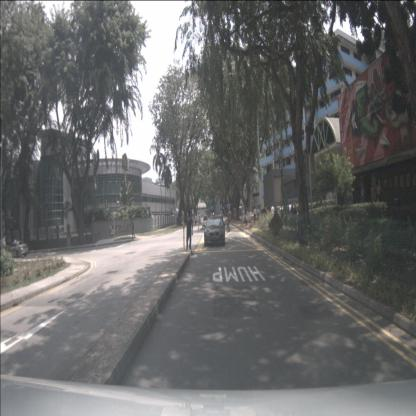human-pedestrian-adult: (186, 210, 194, 250), (290, 203, 295, 228), (279, 204, 284, 225), (294, 203, 298, 229), (288, 201, 292, 226), (198, 211, 203, 230), (226, 211, 230, 233), (131, 219, 135, 240), (266, 205, 270, 226), (220, 210, 224, 230), (270, 204, 274, 224), (253, 207, 257, 224), (219, 211, 222, 231), (256, 206, 260, 221), (194, 213, 197, 225), (192, 214, 194, 226), (242, 209, 244, 217)
vehicle-car: (205, 216, 225, 246), (8, 241, 29, 258)
